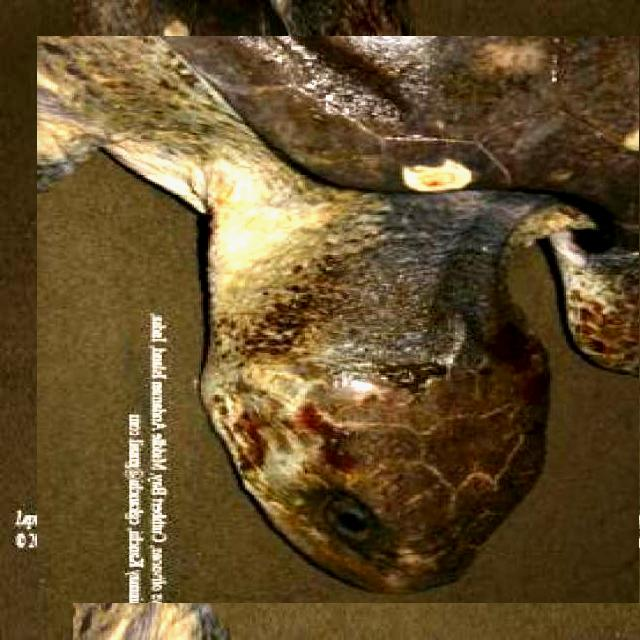Sea turtle: (54, 18, 640, 621)
